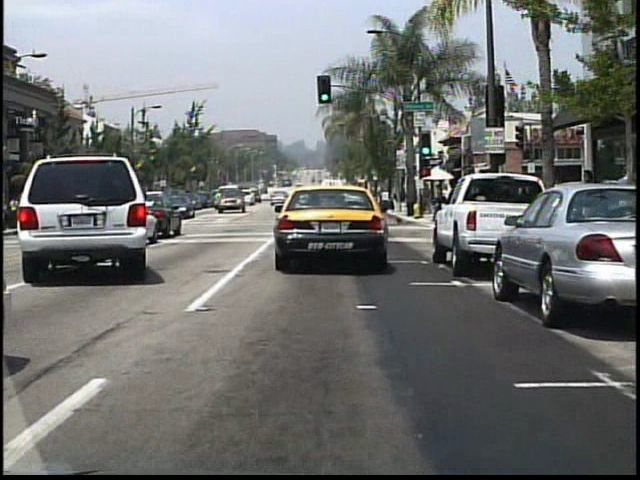person: (576, 167, 599, 248), (421, 181, 433, 218)
